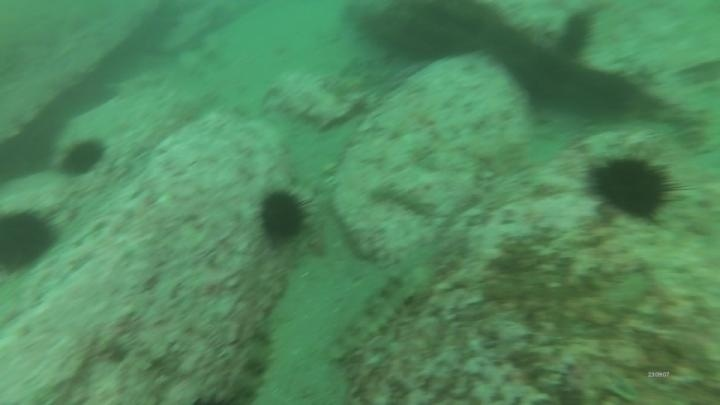echinus: (583, 150, 680, 225), (1, 203, 62, 275), (254, 185, 314, 249), (57, 135, 108, 180)
holothurian: (325, 258, 438, 364), (224, 316, 278, 405)
